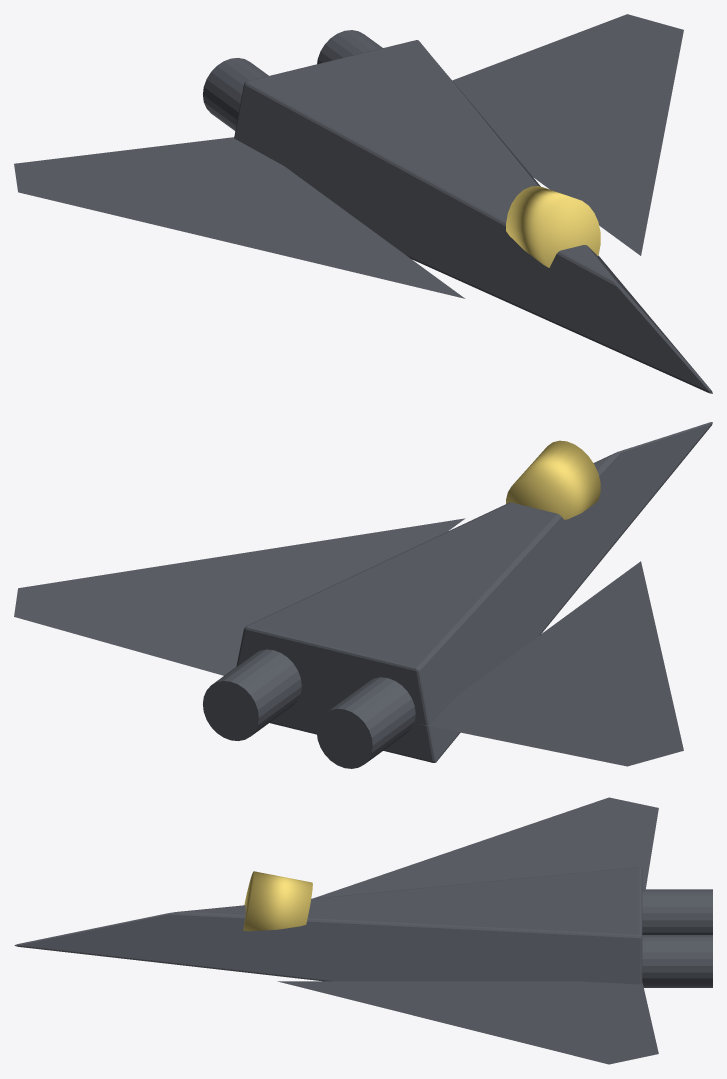
The model's file is spaceship.glb.
3 renders of one model, top to bottom at view 1: azimuth 30°, elevation 25°; view 2: azimuth 150°, elevation 25°; view 3: azimuth 270°, elevation 25°, orthographic. The views are drawn at different scales.
Visible parts, largest first — view 1: Fuselage, Wing_1, Wing_-1, Cylinder, Cylinder.001, Cylinder.003; view 2: Fuselage, Wing_-1, Wing_1, Cylinder.003, Cylinder.001, Cylinder; view 3: Fuselage, Wing_1, Wing_-1, Cylinder.003, Cylinder, Cylinder.001.
Part boxes in pixels (<box>): Fuselage: <box>234,40,712,393</box>; Wing_1: <box>452,14,683,255</box>; Wing_-1: <box>14,137,465,298</box>; Cylinder: <box>506,186,600,267</box>; Cylinder.001: <box>203,58,268,130</box>; Cylinder.003: <box>317,30,382,64</box>; Fuselage: <box>236,422,712,762</box>; Wing_-1: <box>422,561,683,766</box>; Wing_1: <box>14,518,465,675</box>; Cylinder.003: <box>203,649,301,740</box>; Cylinder.001: <box>316,677,415,768</box>; Cylinder: <box>506,440,600,519</box>; Fuselage: <box>14,867,642,984</box>; Wing_1: <box>277,981,658,1064</box>; Wing_-1: <box>313,797,658,898</box>; Cylinder.003: <box>642,935,712,987</box>; Cylinder: <box>243,871,312,931</box>; Cylinder.001: <box>642,889,712,934</box>.
Size of the model in its own units: 7.6 by 1.36 by 8.4.
